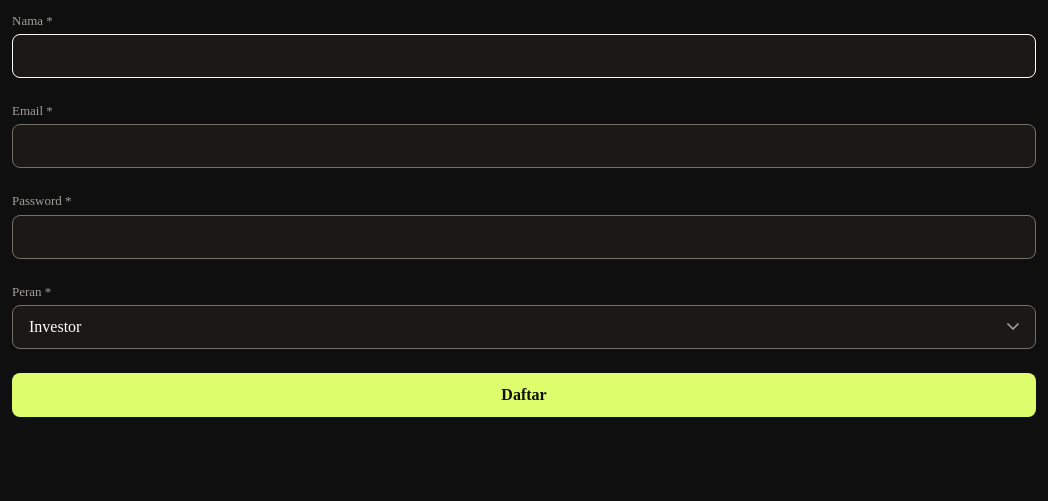
Test: sign up form › shows the backend message as is when sign up fails
The image size is (1048, 501).
Type "Budi Santoso" into the field labelled "Nama *". click: (524, 56)
box: [12,34,1036,78]
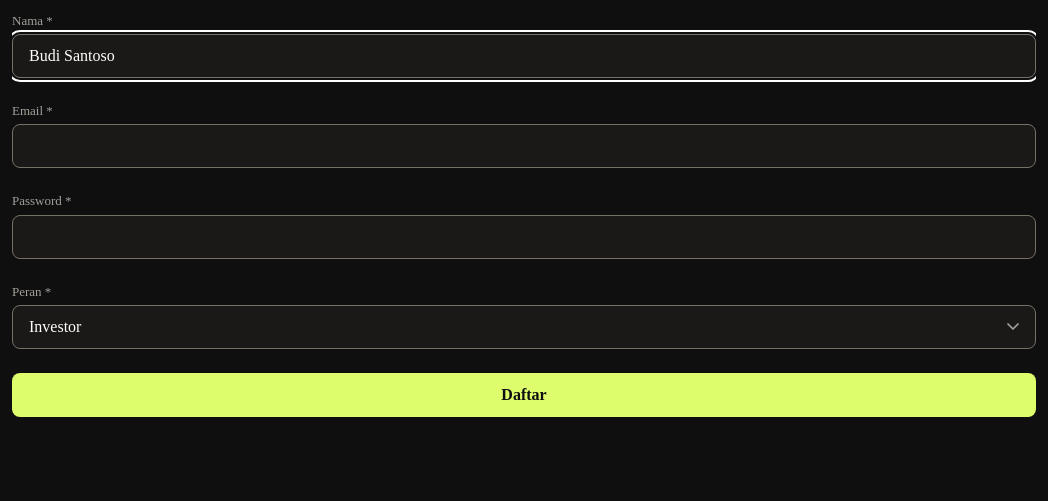
Type "budi@contoh.id" into the field labelled "Email *". click: (524, 146)
box: [12,124,1036,168]
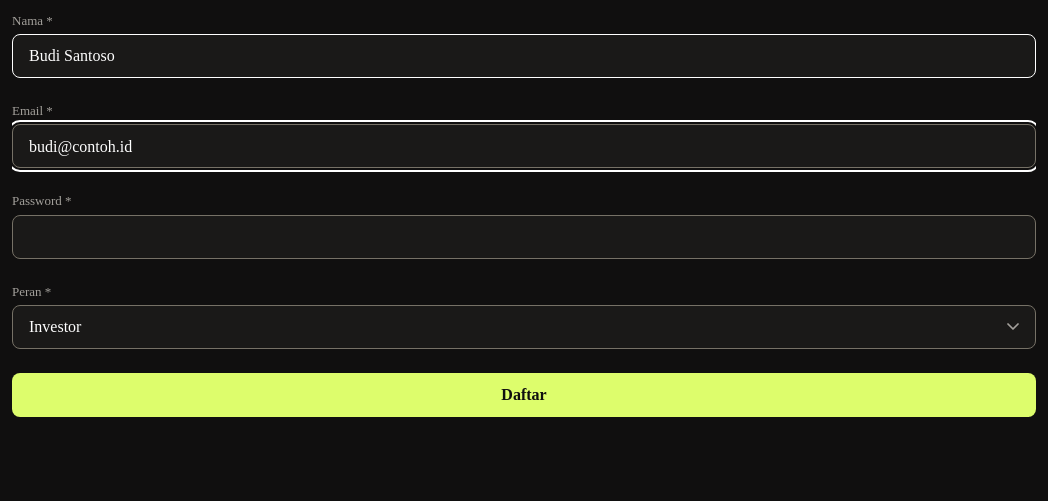
Type "rahasia123" into the password field labelled "Password *". click: (524, 237)
box: [12,215,1036,259]
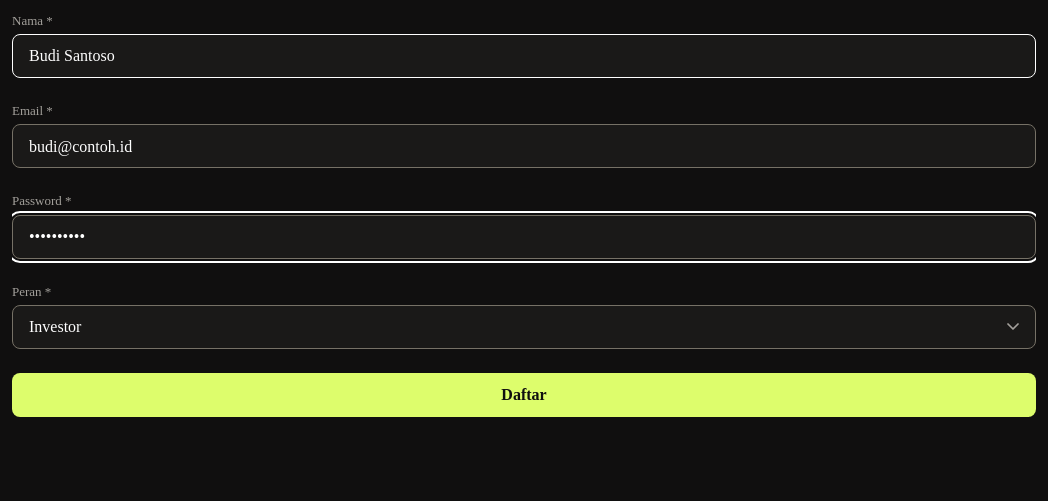
Click the button "Daftar". click: (524, 395)
box: [12,373,1036,417]
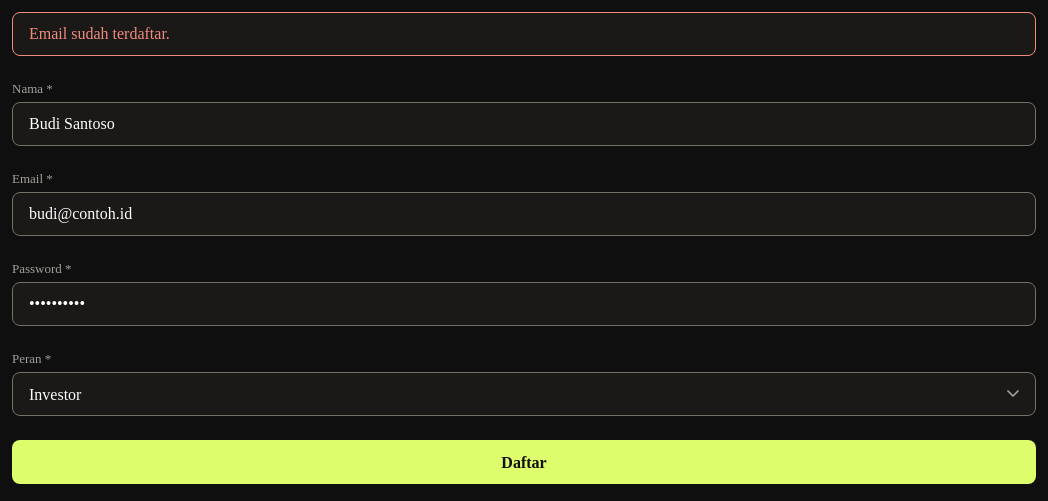
Result: the message reads "Email sudah terdaftar." at [29,25,170,42]
